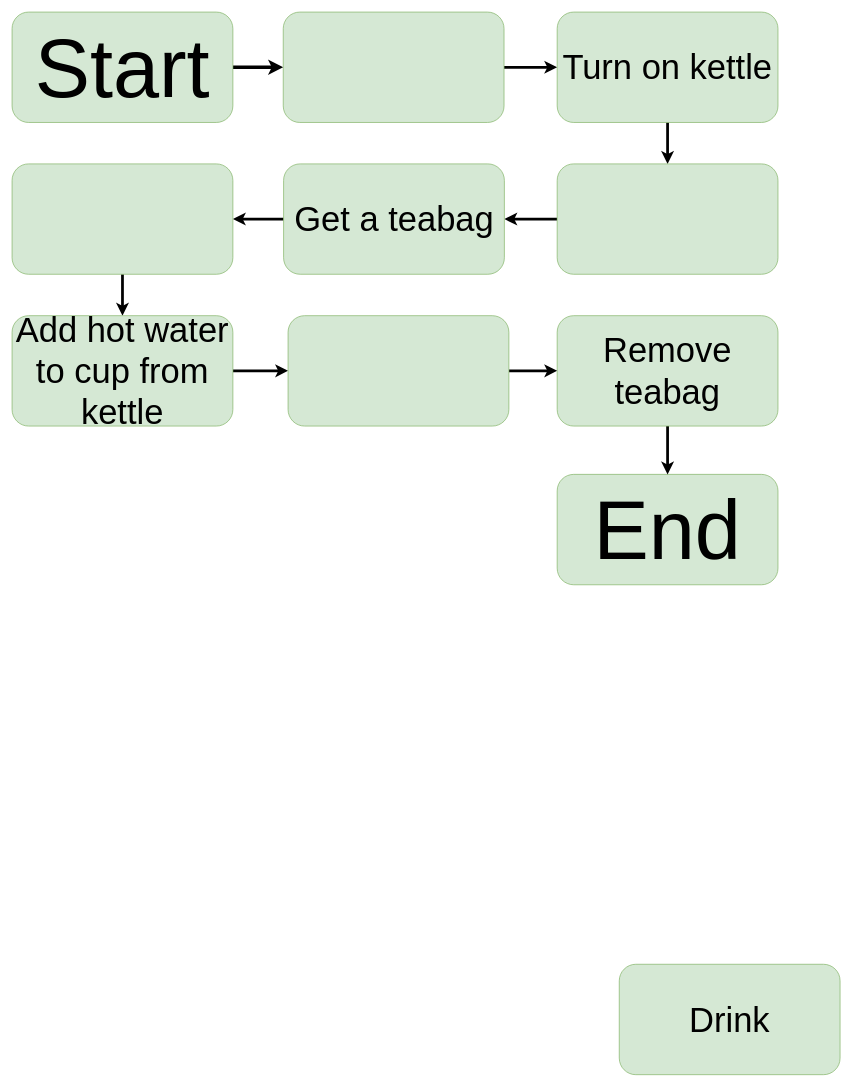
Image size: 852x1087. Some labels were removed from this diagram. Each missing label, with the centre of its shape:
Add water to kettle: the point at 393,66
Get a cup: the point at 667,218
Put teabag in cup: the point at 122,218
Wait 1 minute: the point at 398,370
